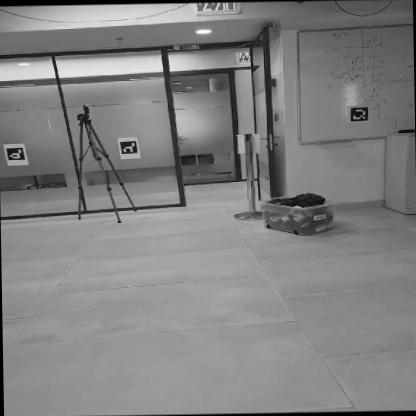open: (170, 65, 255, 215)
